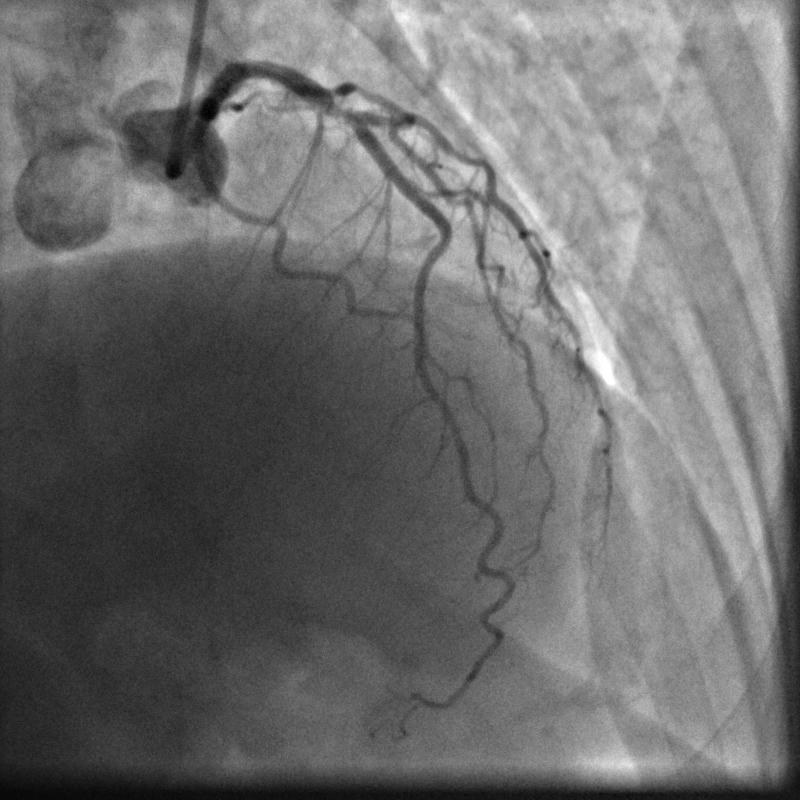Stenosis: (333, 99, 363, 128)
